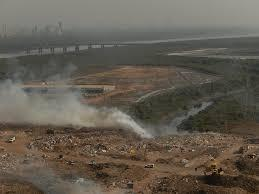smoke: (0, 64, 155, 141)
